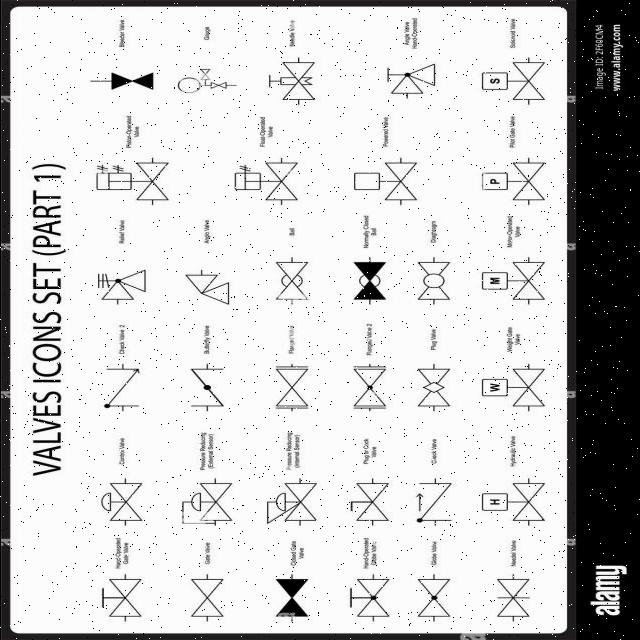Angle Valve: (180, 258, 234, 314)
Ball Valve: (258, 253, 320, 314), (410, 253, 454, 316)
Bleeder Valve: (76, 62, 172, 106)
Butterfly Valve: (180, 355, 237, 417)
Check Valve: (91, 357, 152, 417), (406, 474, 458, 532)
Closed Gate Valve: (259, 568, 323, 624)
Cock Valve: (346, 474, 394, 532)
Flanged: (262, 356, 320, 420)
Flanged Globe: (343, 361, 398, 418)
Float Operated Valve: (220, 148, 314, 212)
Gate Valve: (180, 571, 236, 626)
Gauge: (172, 58, 244, 102)
Globe Valve: (404, 570, 457, 628)
Hand Operated Angle Valve: (370, 58, 449, 106)
Hand Operated Gate Valve: (84, 578, 148, 618)
Hand Operated Globe Valve: (341, 574, 394, 625)
Hydraulic Operated Gate Valve: (474, 472, 556, 532), (482, 566, 544, 625)
Motor Operated Gate Valve: (476, 254, 550, 312)
Needle Valve: (262, 51, 330, 110)
Piston Operated Valve: (86, 151, 176, 214)
Plug Valve: (404, 360, 456, 420)
Powered Gate Valve: (342, 156, 427, 208)
Pressure Regulator: (260, 476, 334, 534)
Relief Valve: (79, 262, 159, 307)
Rotary Piston-Pneumatic Gate Valve: (98, 478, 146, 528)
Solenoid Operated Gate Valve: (471, 55, 552, 111)
